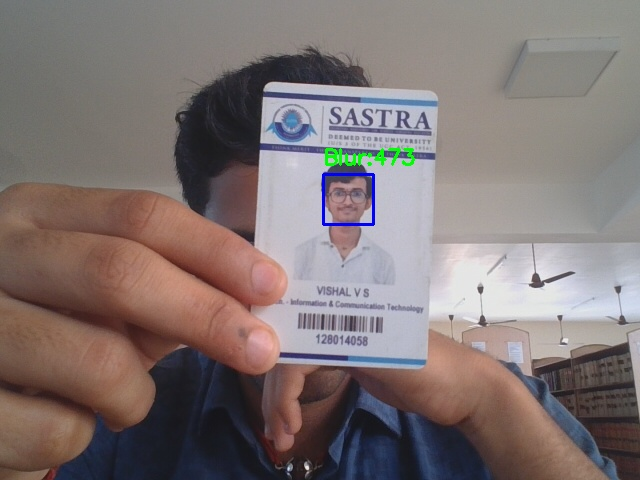fake: (323, 174, 373, 224)
